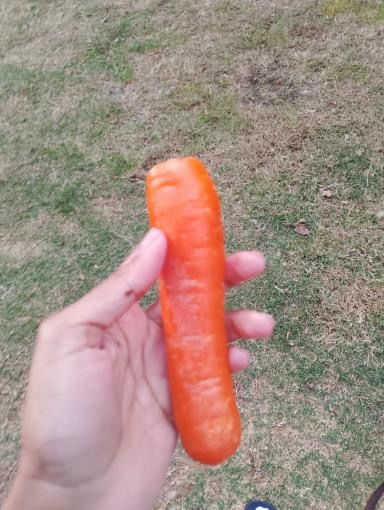carrot: (137, 153, 252, 475)
